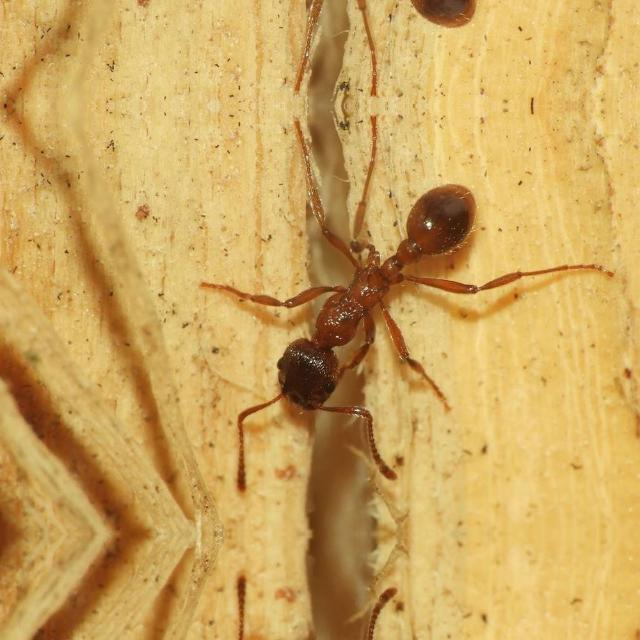Myrmica: (218, 175, 526, 458)
